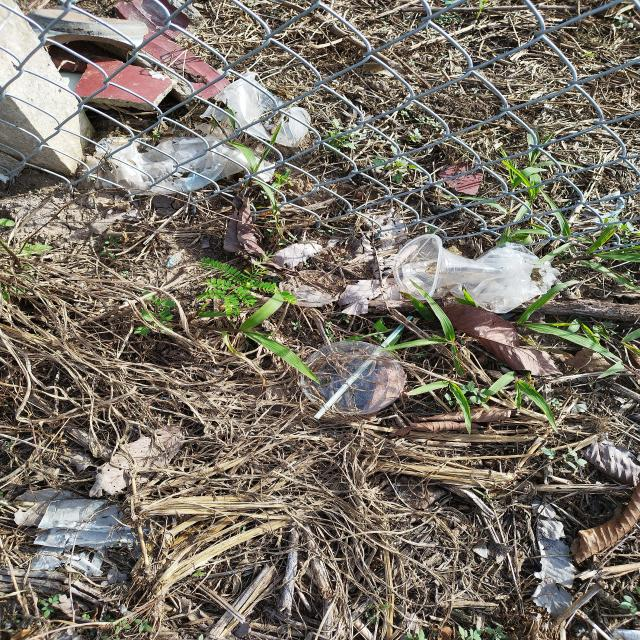bag: (448, 242, 562, 314)
drinking straw: (313, 315, 414, 420)
lid: (299, 340, 406, 416)
plastic glass: (392, 233, 503, 300)
